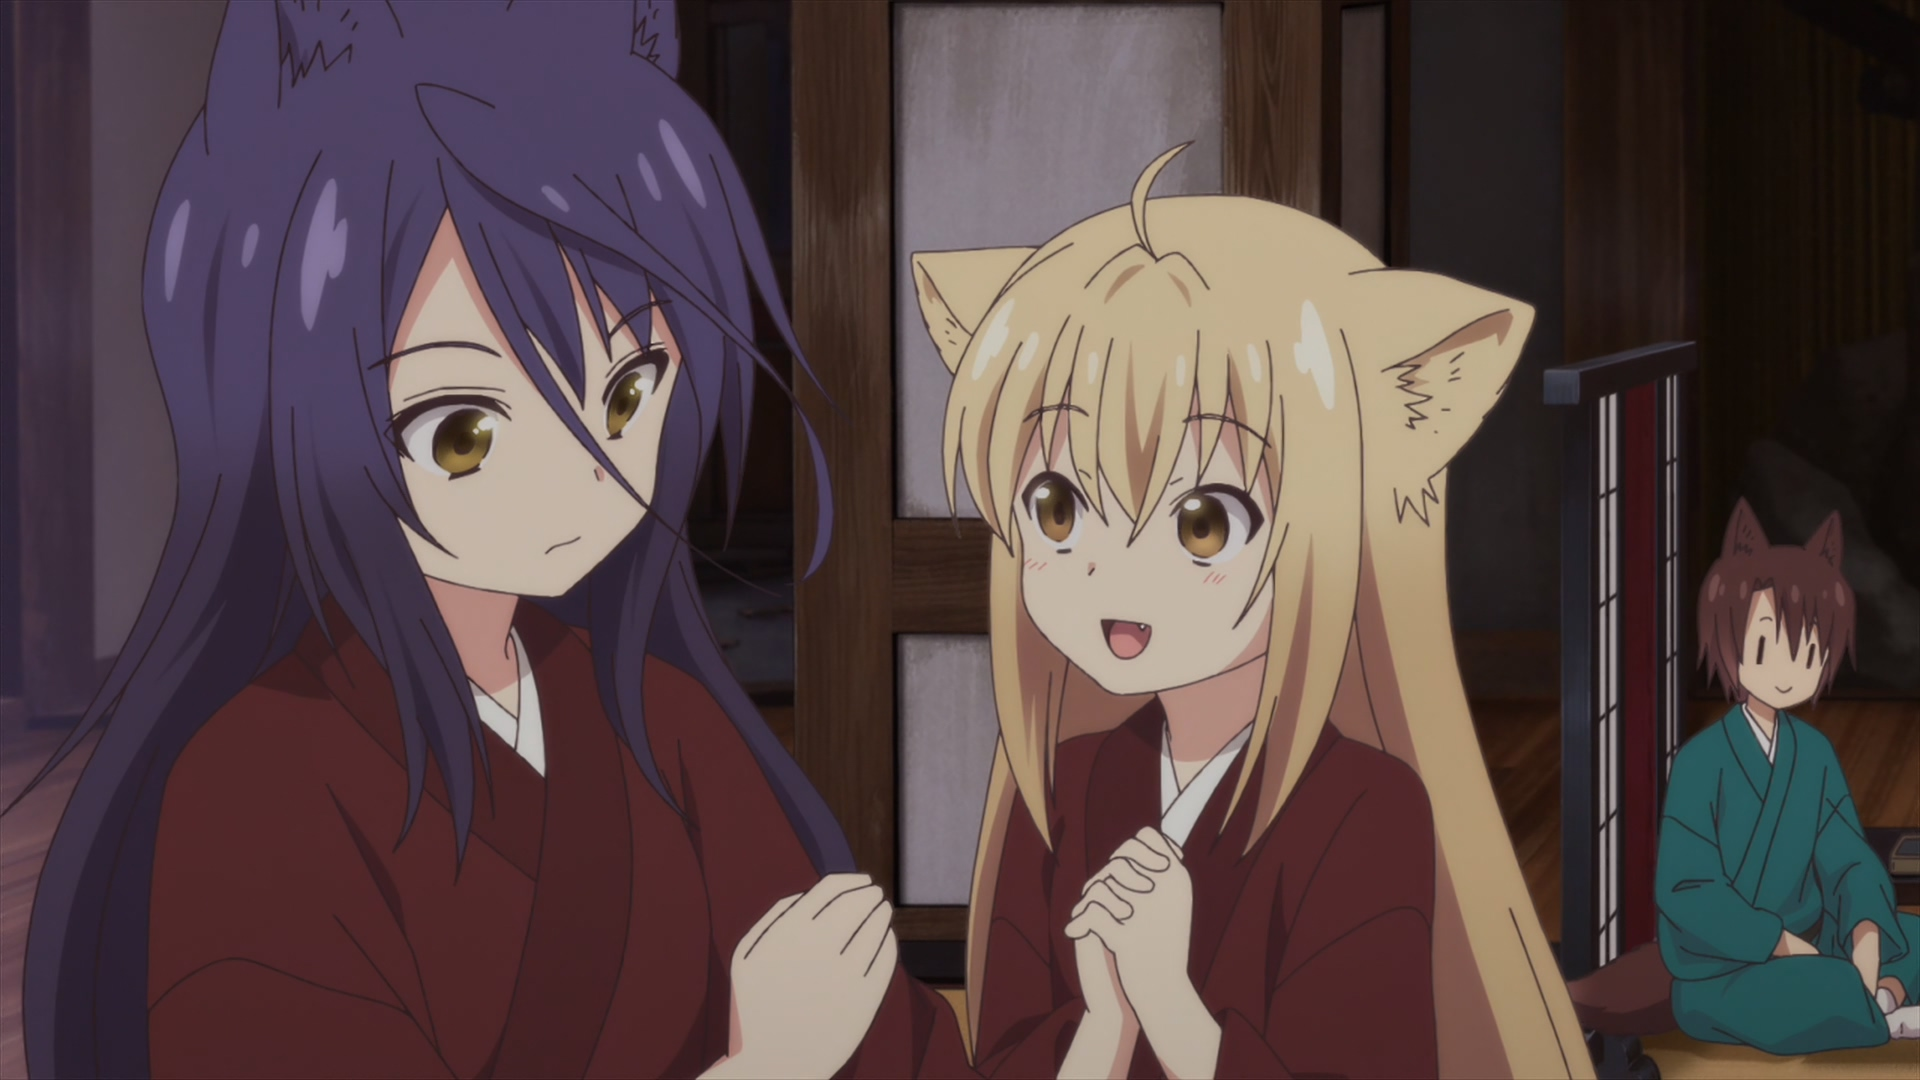枣: (1563, 500, 1920, 1059)
柚: (911, 142, 1602, 1080)
皋: (1, 3, 971, 1080)
